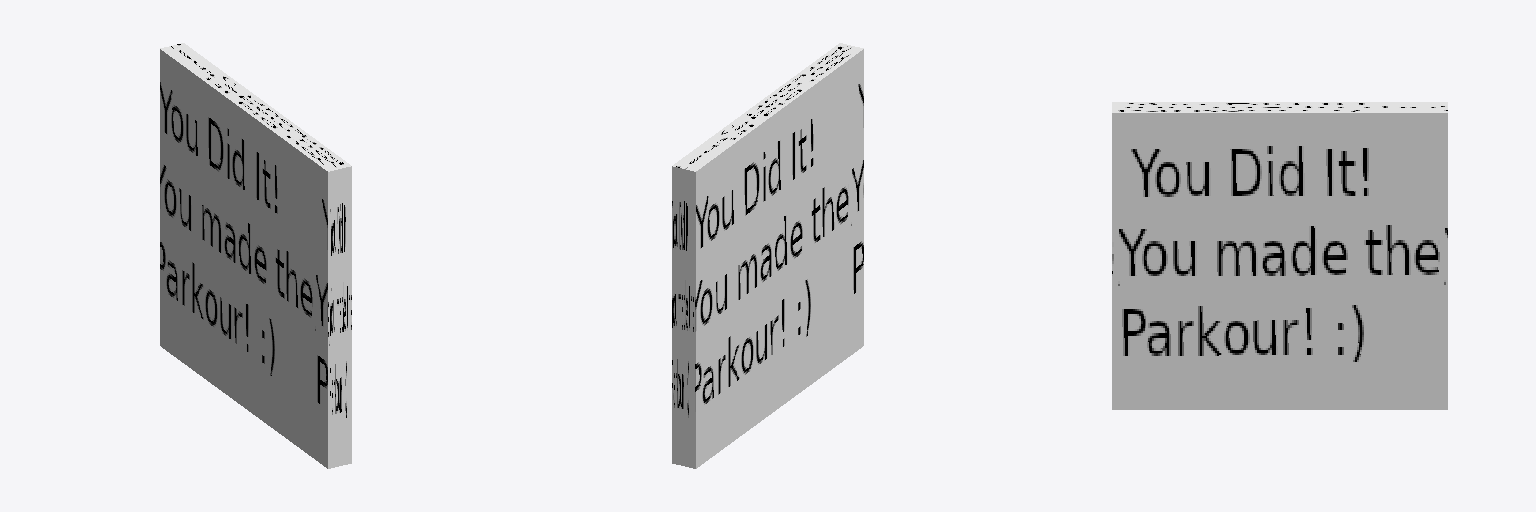
The picture shows the model from 3 angles: view 1: azimuth 30°, elevation 25°; view 2: azimuth 150°, elevation 25°; view 3: azimuth 270°, elevation 25°; orthographic projection.
Parts seen in each view (by area): view 1: Cube; view 2: Cube; view 3: Cube.
Boxes of the visible parts, x1,y1,x2,y2 form: Cube: [160, 43, 351, 468]; Cube: [672, 43, 863, 468]; Cube: [1112, 102, 1447, 409].
Bounding box in the file's own units: 0.6992 × 8.26 × 8.49.
1 materials, 1 textured.